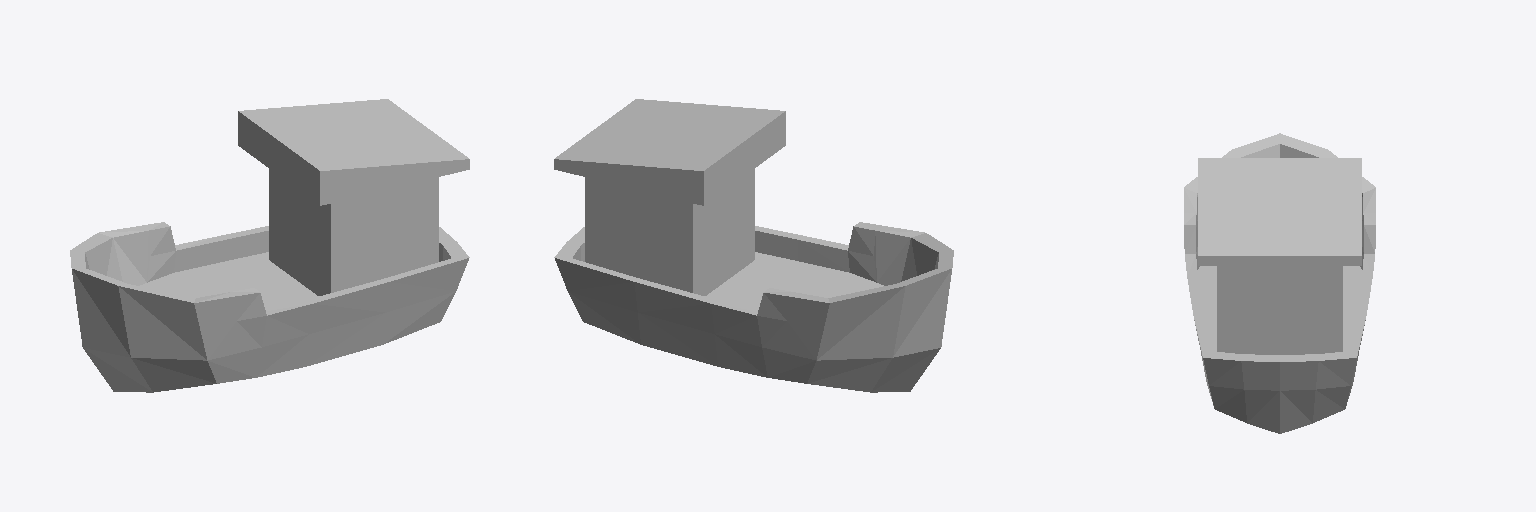
The model's file is Boat.obj.
3 renders of one model, left to right at view 1: azimuth 30°, elevation 25°; view 2: azimuth 150°, elevation 25°; view 3: azimuth 270°, elevation 25°, orthographic.
Parts seen in each view (by area): view 1: boat1; view 2: boat1; view 3: boat1.
Boxes of the visible parts, x1=… form: boat1: x1=70, y1=99, x2=469, y2=392; boat1: x1=554, y1=99, x2=953, y2=392; boat1: x1=1184, y1=133, x2=1375, y2=433.
Size of the model in its own units: 86.15 by 48.75 by 38.98.